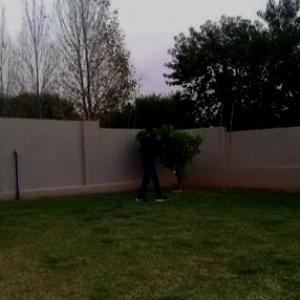follow: (138, 123, 160, 208)
